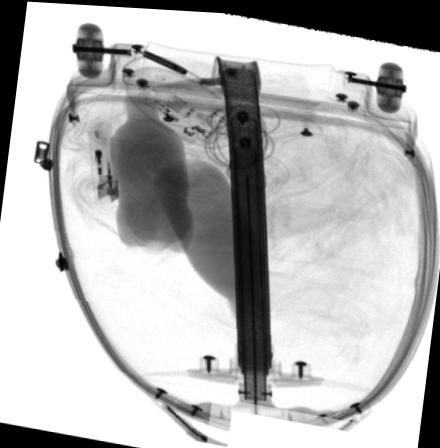Lighter: (84, 118, 118, 201)
